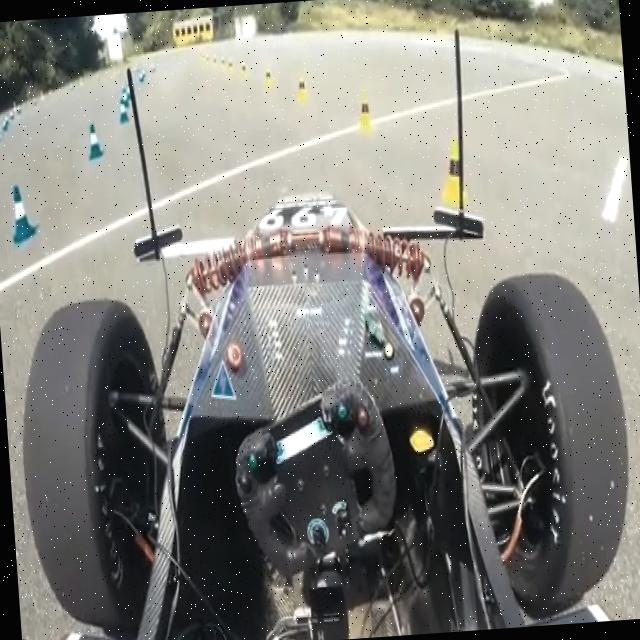blue_cone: (75, 103, 115, 169), (0, 178, 36, 243)
yellow_cone: (432, 144, 472, 220), (348, 86, 384, 147), (292, 63, 306, 109)
